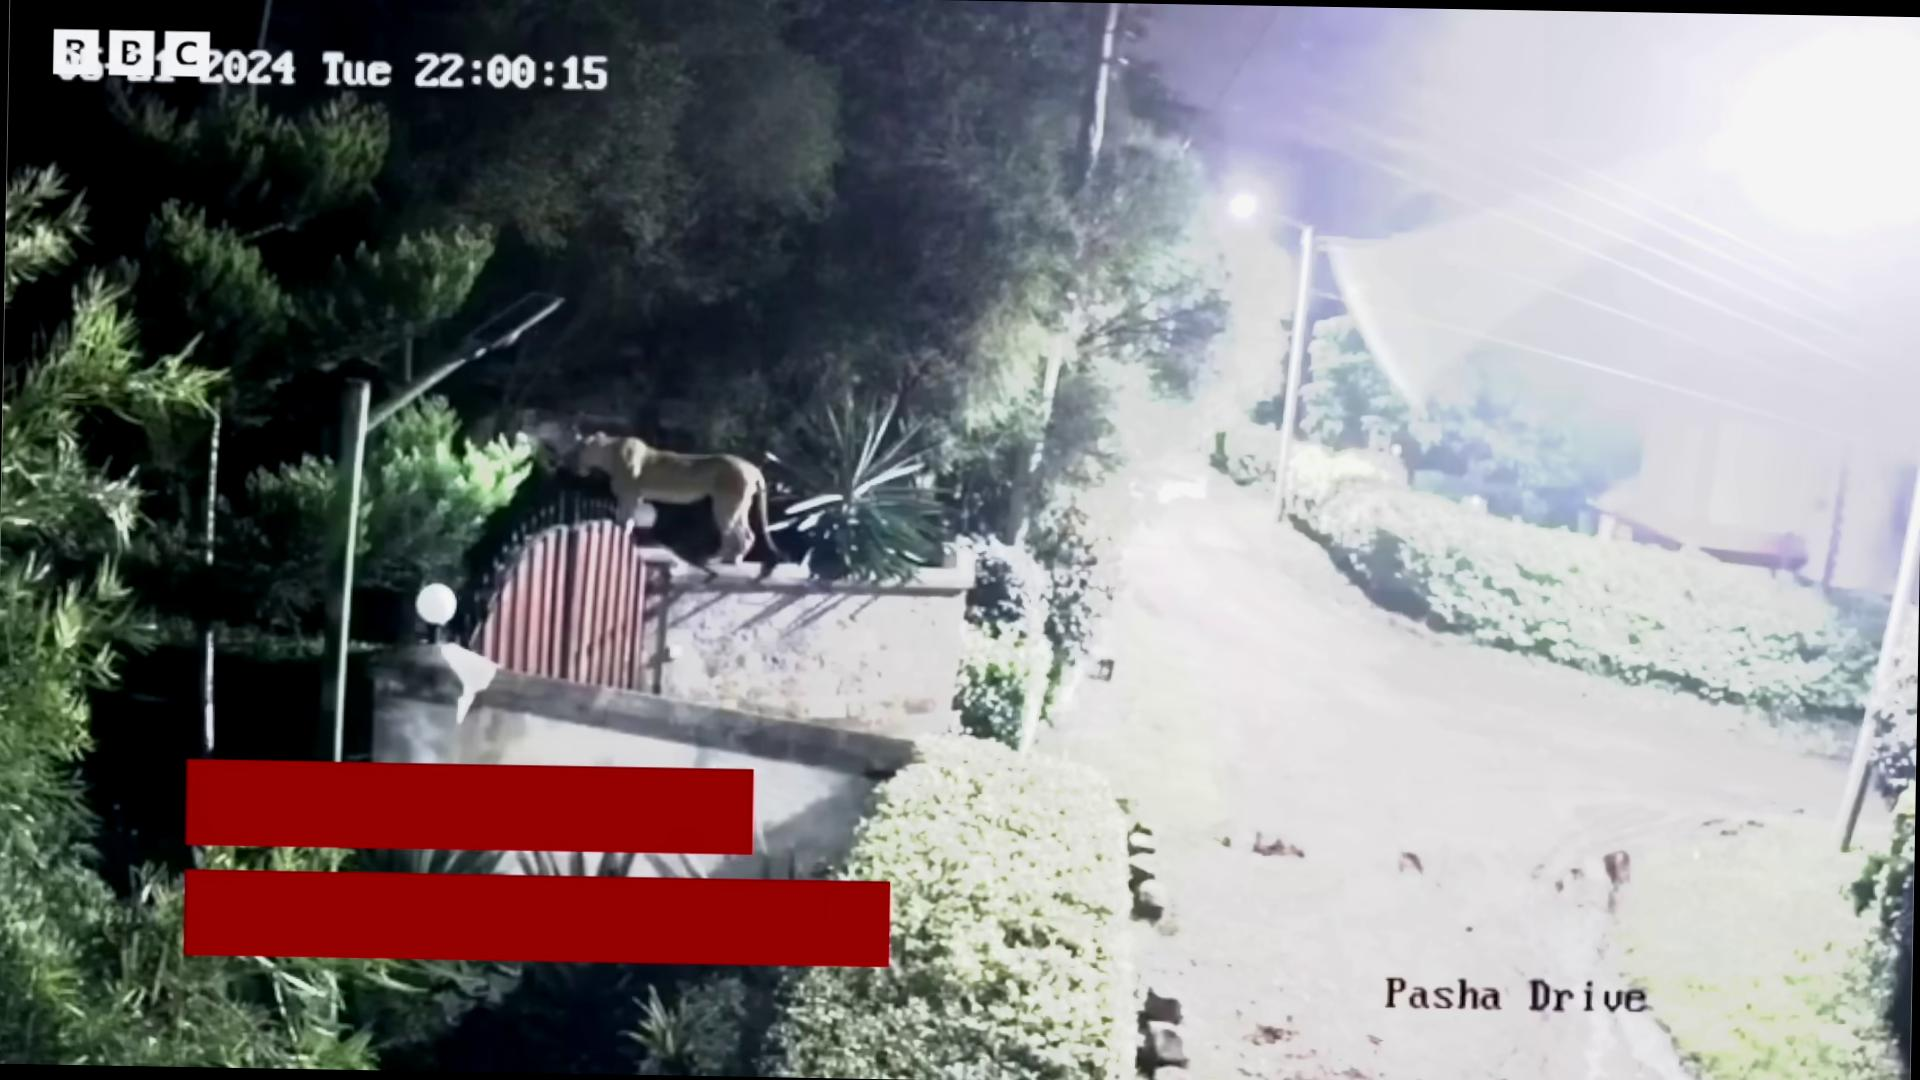lions: (538, 407, 905, 645)
